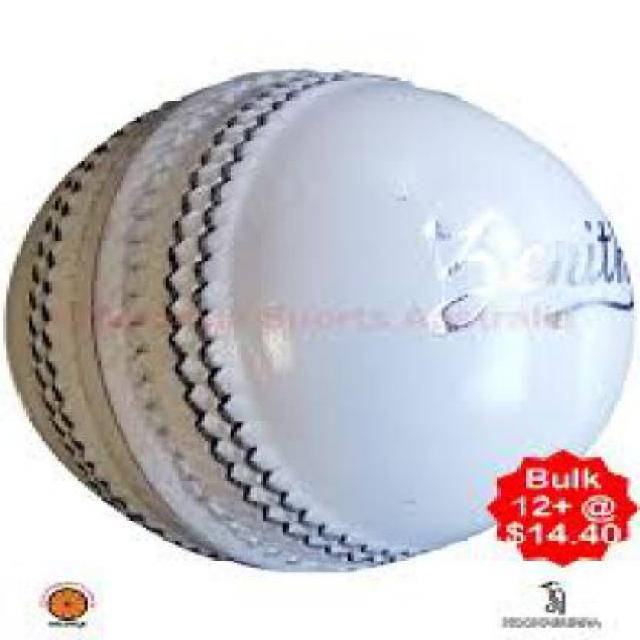ball: (0, 46, 620, 562)
